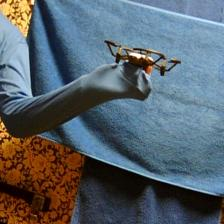drone: (104, 38, 183, 77)
